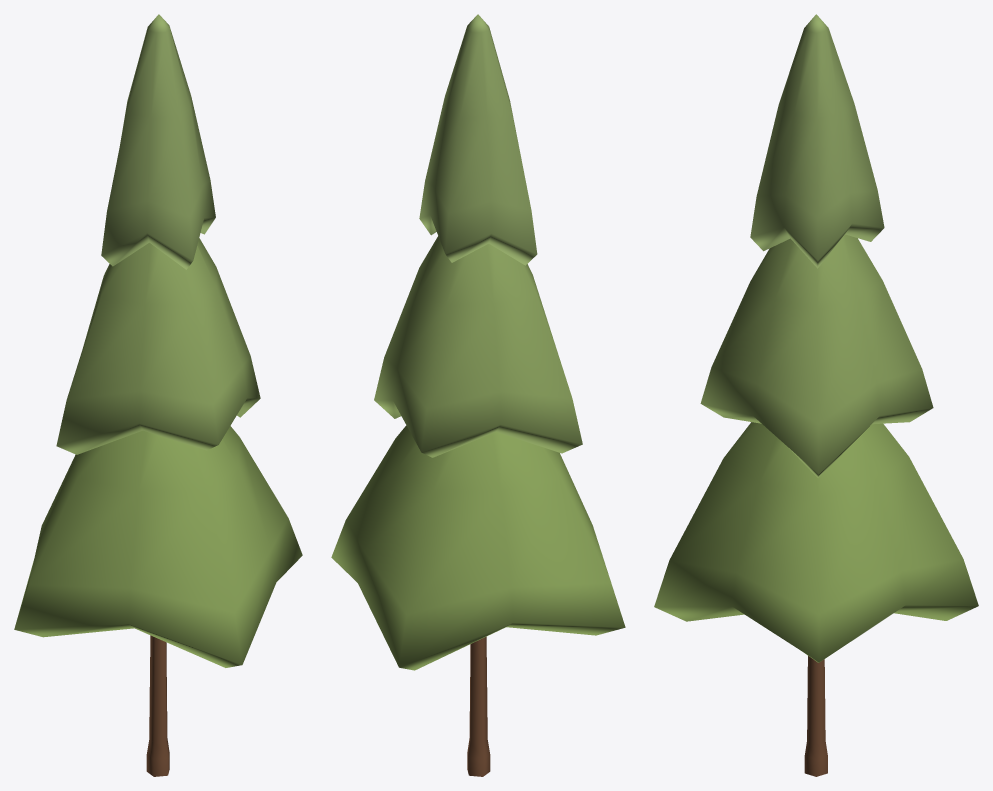
Rendered from larch_far.glb.
3 renders of one model, left to right at view 1: azimuth 30°, elevation 25°; view 2: azimuth 150°, elevation 25°; view 3: azimuth 270°, elevation 25°, orthographic.
Parts seen in each view (by area): view 1: body; view 2: body; view 3: body.
Part boxes in pixels (x1,y1,x2,y2): body: [14, 14, 302, 776]; body: [331, 14, 625, 776]; body: [654, 14, 978, 776].
Bounding box in the file's own units: 5.17 × 12.85 × 4.99.
